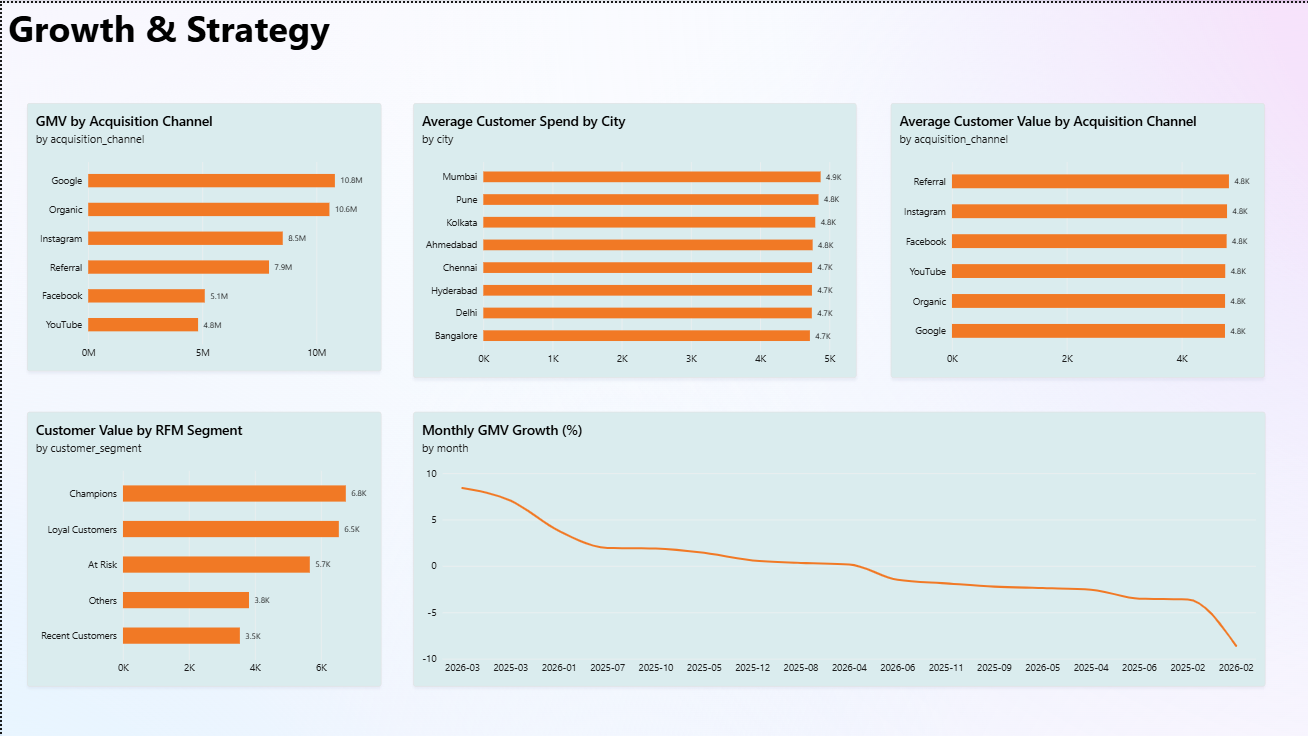

Layout of this report page (visuals, bound fields, positions):
{"tool":"powerbi","page":{"name":"Growth & Strategy","canvas":[1920,1080],"ordinal":4},"visuals":[{"type":"textbox","box":[10,0,546.7,93.3],"z":0},{"type":"clusteredBarChart","fields":{"Category":["food_delivery_analytics vw_customer_metrics.acquisition_channel"],"Y":["Sum(food_delivery_analytics vw_customer_metrics.total_spend)"]},"box":[36.7,146.7,520,393.3],"z":1000},{"type":"clusteredBarChart","fields":{"Category":["food_delivery_analytics vw_customer_metrics.city"],"Y":["Avg(food_delivery_analytics vw_customer_metrics.total_spend)"]},"box":[603.3,146.7,650,403.3],"z":2000},{"type":"clusteredBarChart","fields":{"Category":["food_delivery_analytics vw_customer_rfm.customer_segment"],"Y":["Avg(food_delivery_analytics vw_customer_rfm.monetary)"]},"box":[36.7,600,520,403.3],"z":3000},{"type":"lineChart","fields":{"Category":["food_delivery_analytics vw_monthly_performance.month"],"Y":["Sum(food_delivery_analytics vw_monthly_performance.gmv_mom_growth_pct)"]},"box":[603.3,600,1250,403.3],"z":4000},{"type":"clusteredBarChart","fields":{"Category":["food_delivery_analytics vw_customer_metrics.acquisition_channel"],"Y":["Avg(food_delivery_analytics vw_customer_metrics.total_spend)"]},"box":[1304.2,146.7,548.4,403.5],"z":5000}]}

Visuals, with their boxes in screenshot pixels (x1, y1, x2, y2), scaled from the page's 1920x1080 canvas onto the 1308x736 screenshot:
textbox: bbox(7, 0, 379, 64)
clusteredBarChart - food_delivery_analytics vw_customer_metrics.acquisition_channel x Sum(food_delivery_analytics vw_customer_metrics.total_spend): bbox(25, 100, 379, 368)
clusteredBarChart - food_delivery_analytics vw_customer_metrics.city x Avg(food_delivery_analytics vw_customer_metrics.total_spend): bbox(411, 100, 854, 375)
clusteredBarChart - food_delivery_analytics vw_customer_rfm.customer_segment x Avg(food_delivery_analytics vw_customer_rfm.monetary): bbox(25, 409, 379, 684)
lineChart - food_delivery_analytics vw_monthly_performance.month x Sum(food_delivery_analytics vw_monthly_performance.gmv_mom_growth_pct): bbox(411, 409, 1263, 684)
clusteredBarChart - food_delivery_analytics vw_customer_metrics.acquisition_channel x Avg(food_delivery_analytics vw_customer_metrics.total_spend): bbox(888, 100, 1262, 375)
